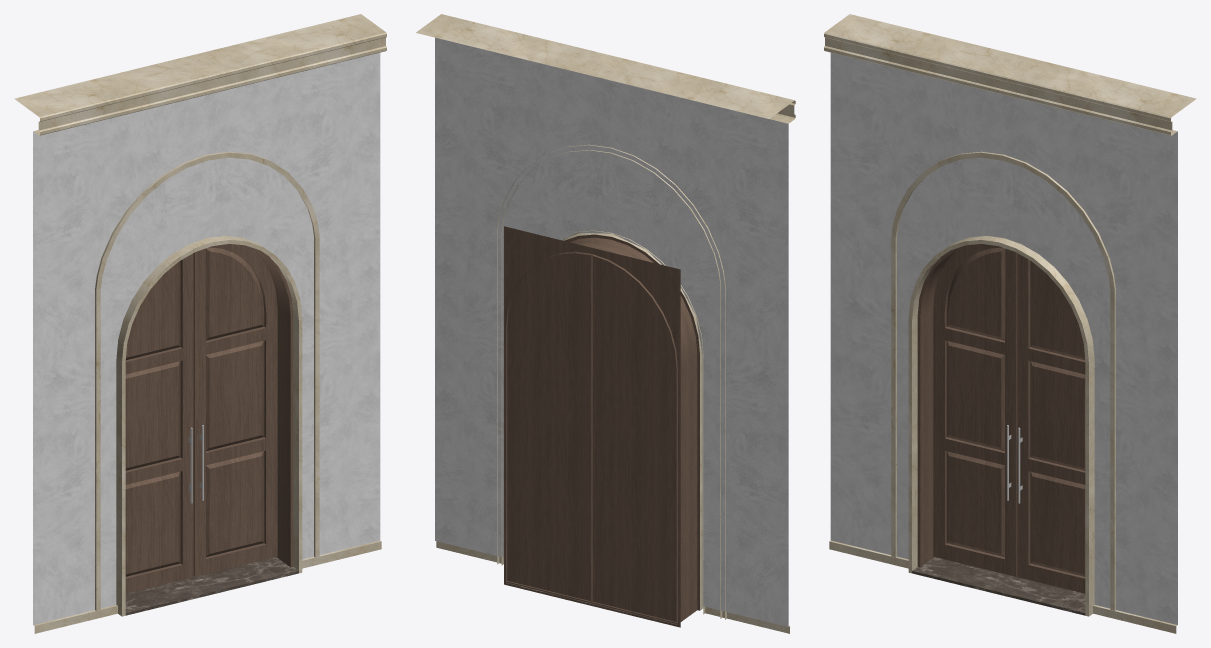
The picture shows the model from 3 angles, left to right: view 1: azimuth 30°, elevation 25°; view 2: azimuth 150°, elevation 25°; view 3: azimuth 330°, elevation 25°; orthographic projection.
Parts seen in each view (by area): view 1: M_W_201_g_4x6; view 2: M_W_201_g_4x6; view 3: M_W_201_g_4x6.
Boxes of the visible parts, x1,y1,x2,y2 form: M_W_201_g_4x6: [14, 14, 386, 633]; M_W_201_g_4x6: [416, 14, 795, 633]; M_W_201_g_4x6: [824, 14, 1196, 633].
Size of the model in its own units: 4.2 by 6.02 by 0.5559.
